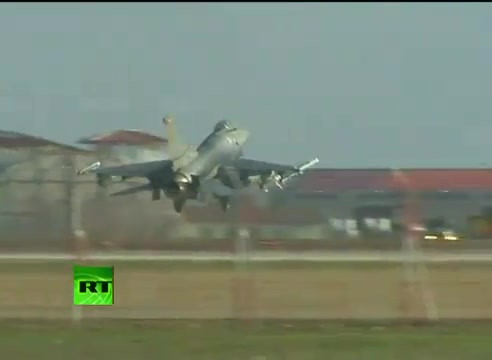aeroplane: (78, 116, 321, 215)
